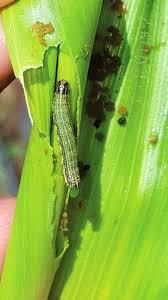fallarmy_worm: (48, 72, 86, 201)
